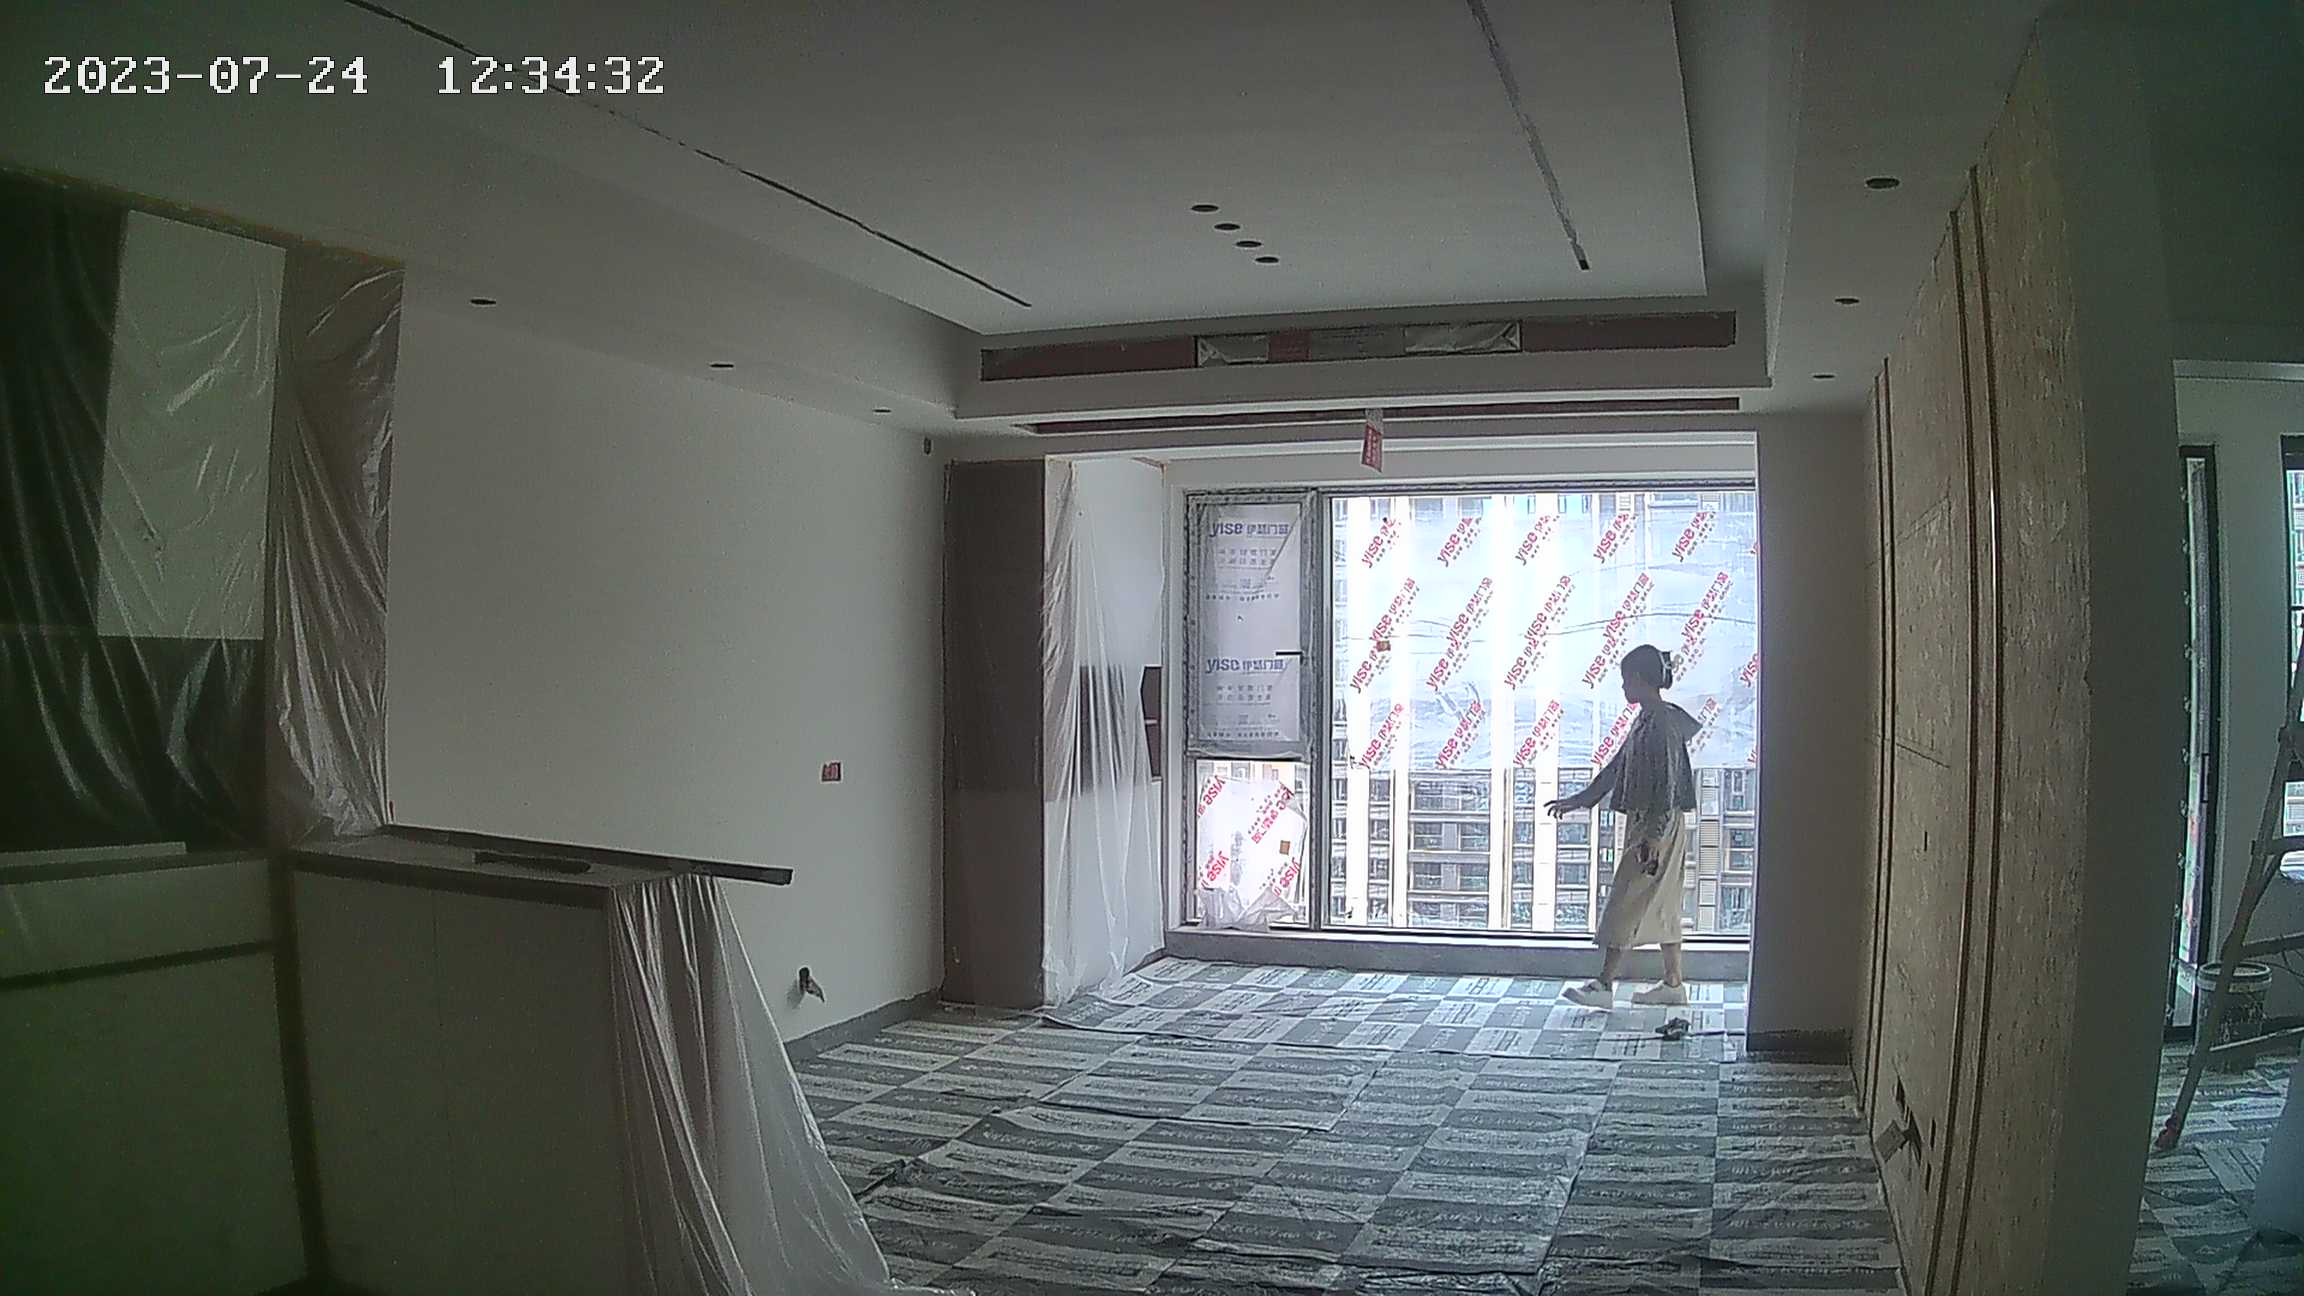people: (1542, 643, 1709, 1014)
window: (1182, 494, 1760, 942)
